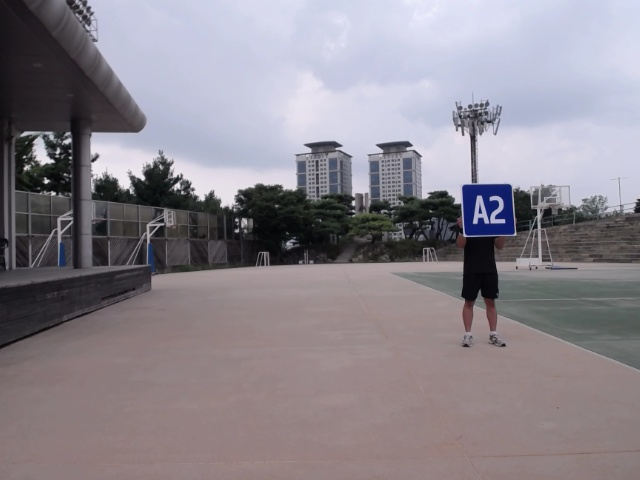delivery_a2: (461, 184, 516, 237)
